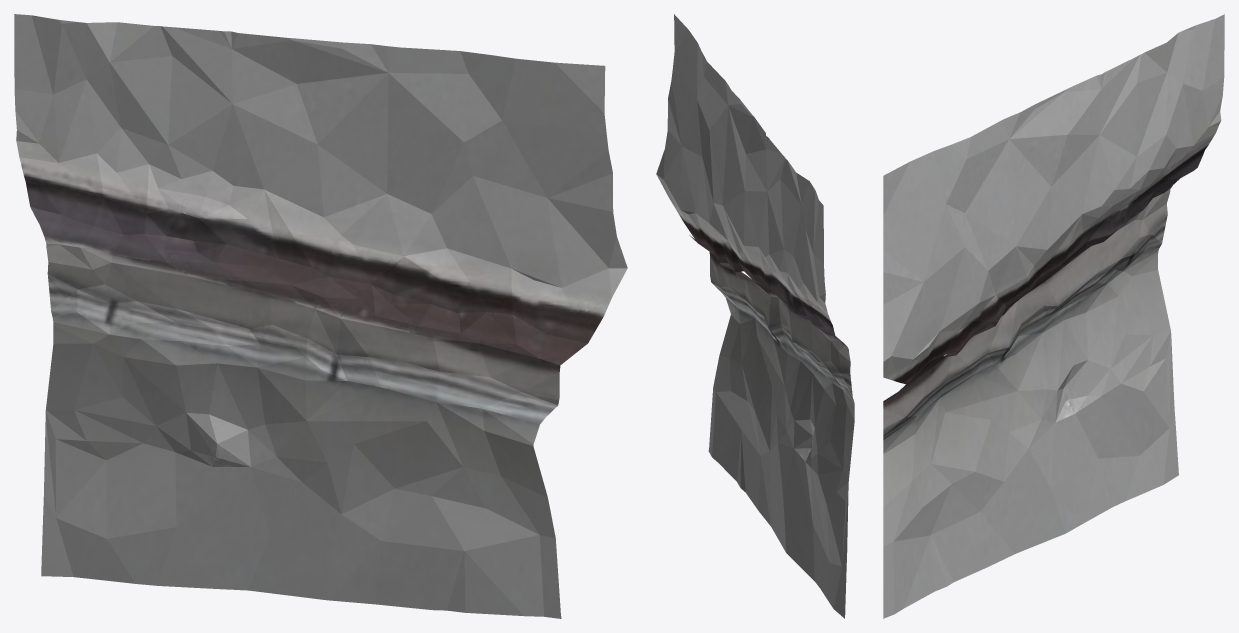
The picture shows the model from 3 angles, left to right: view 1: azimuth 30°, elevation 25°; view 2: azimuth 150°, elevation 25°; view 3: azimuth 270°, elevation 25°; orthographic projection. The views are drawn at different scales.
Bounding box in the file's own units: 0.6666 × 0.8374 × 0.5621.
Materials: 2 (2 with a texture image).
